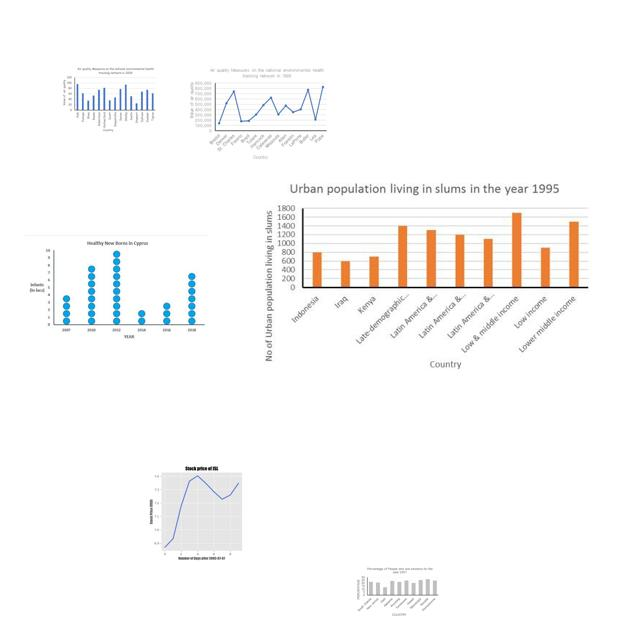Graph: (258, 177, 593, 372), (23, 235, 209, 344), (185, 65, 329, 162), (132, 460, 268, 562), (61, 65, 157, 134), (355, 566, 441, 618)
